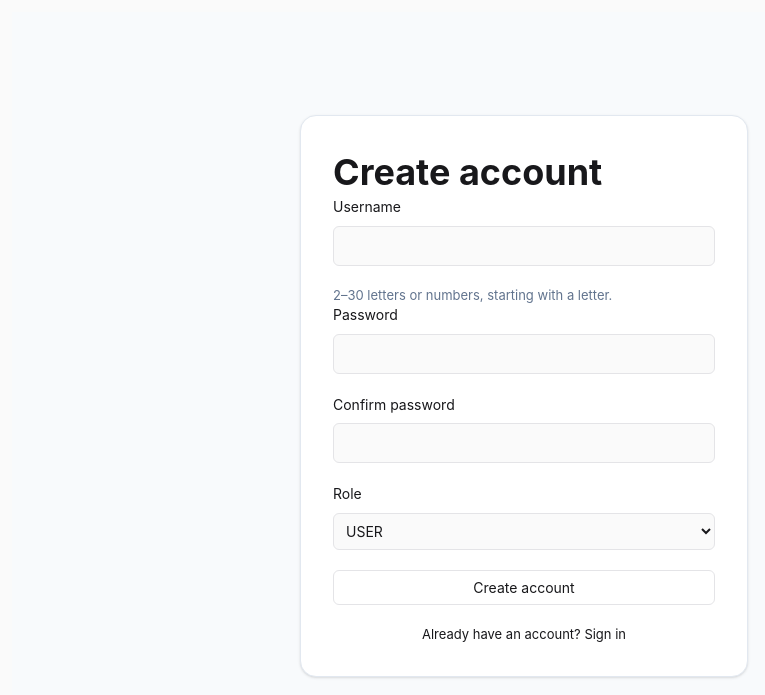
Test: registers with role USER and returns to login with success message
Select "USER" in the dropdown labelled "Role": (524, 531) [333,513,715,550]
In the field labelled "Username": (524, 246) [333,226,715,266], type "demoUser"
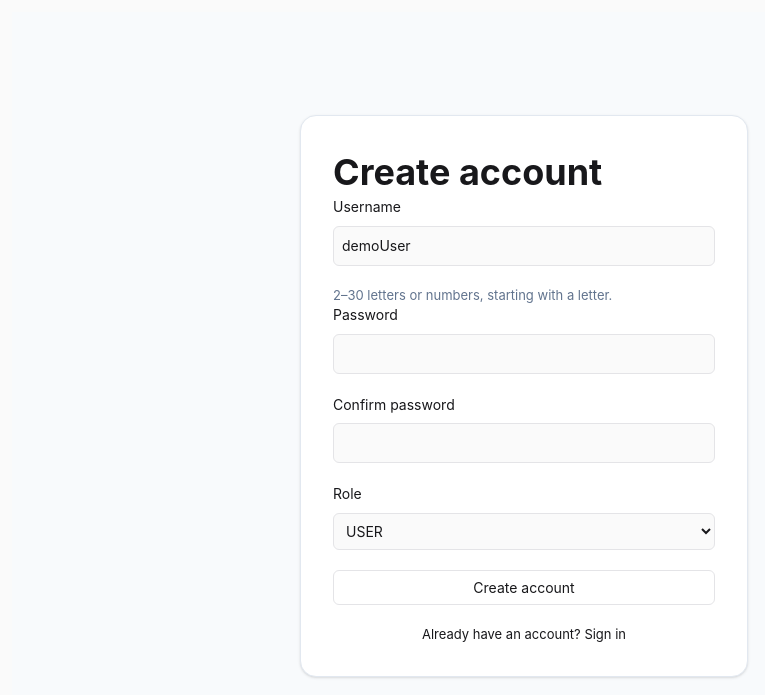
In the password field labelled "Password": (524, 354) [333,334,715,374], type "Password123"
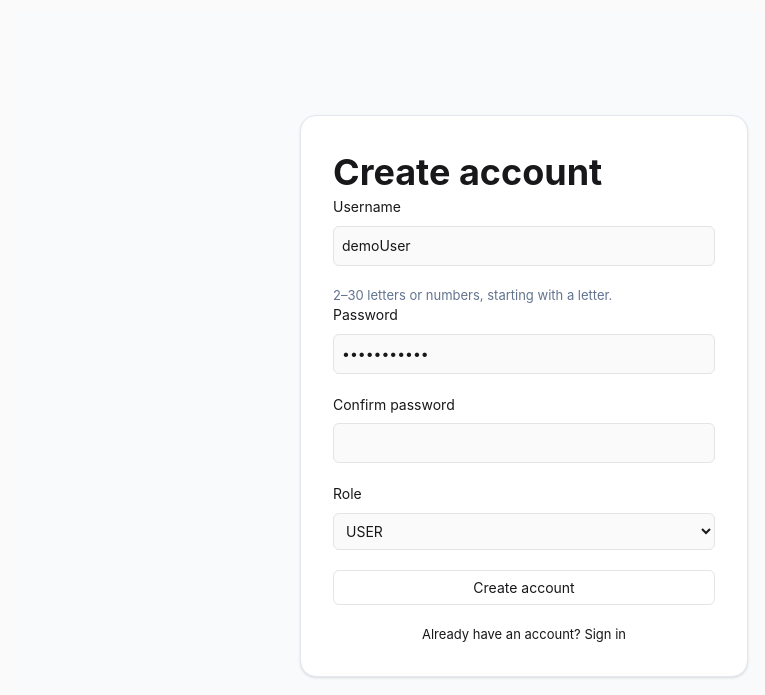
In the password field labelled "Confirm password": (524, 443) [333,423,715,463], type "Password123"
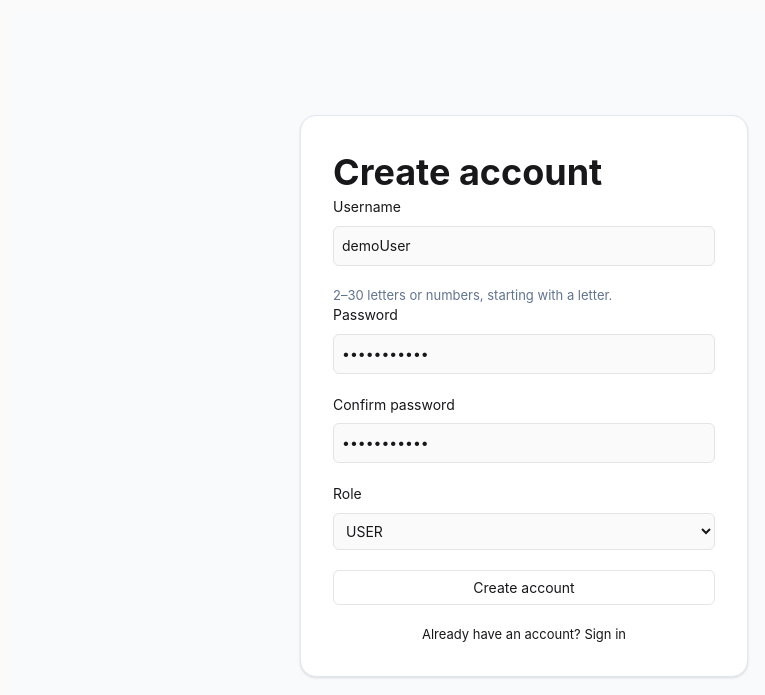
Click the button "Create account": (524, 587) [333,570,715,605]
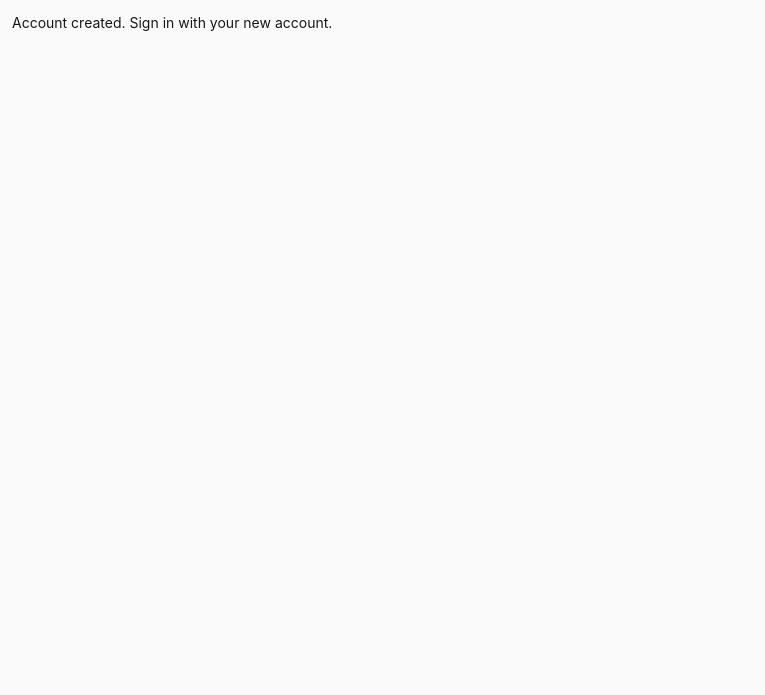
Now the text "Account created. Sign in with your new account." is shown, box [12,14,332,31]
